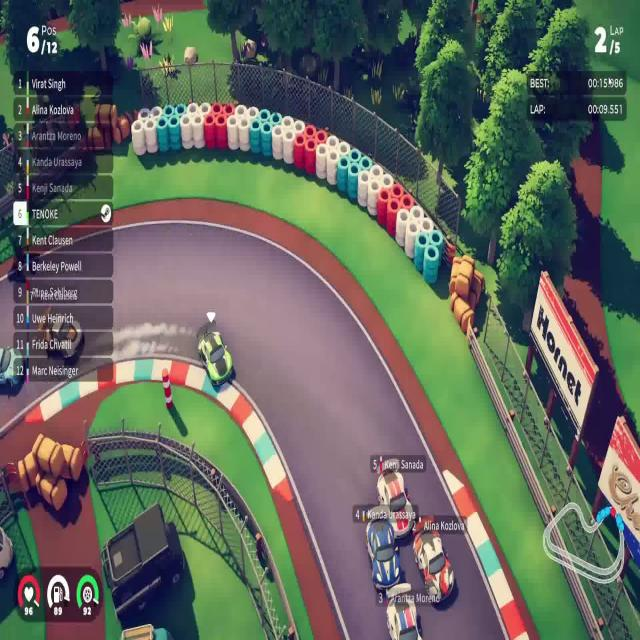car: (410, 516, 460, 601), (374, 456, 414, 535), (364, 506, 402, 588), (196, 328, 234, 388)
